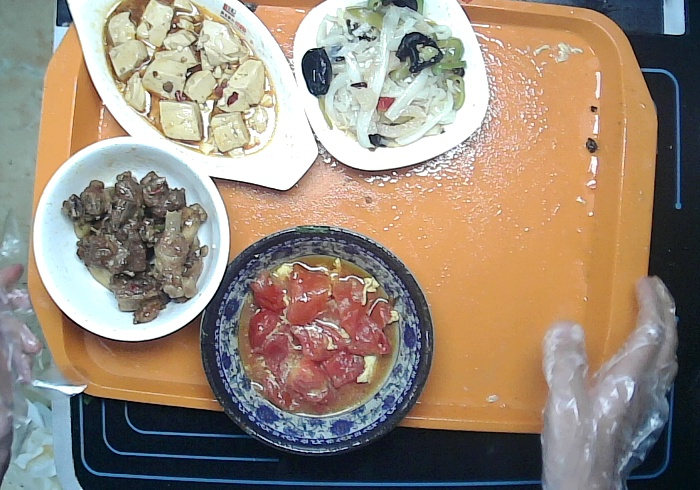ZNLD-Qing_Hua_Wan: (199, 223, 437, 458)
ZNLD-Si_Fang_Wan: (292, 1, 488, 171)
ZNLD-Tang_Wan: (28, 137, 228, 346)
ZNLD-Yu_Pan: (63, 1, 318, 197)
